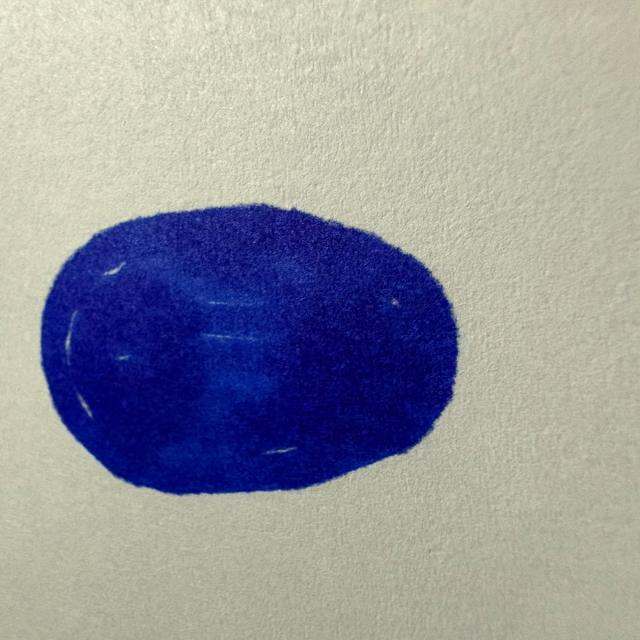Circle: (32, 203, 467, 502)
